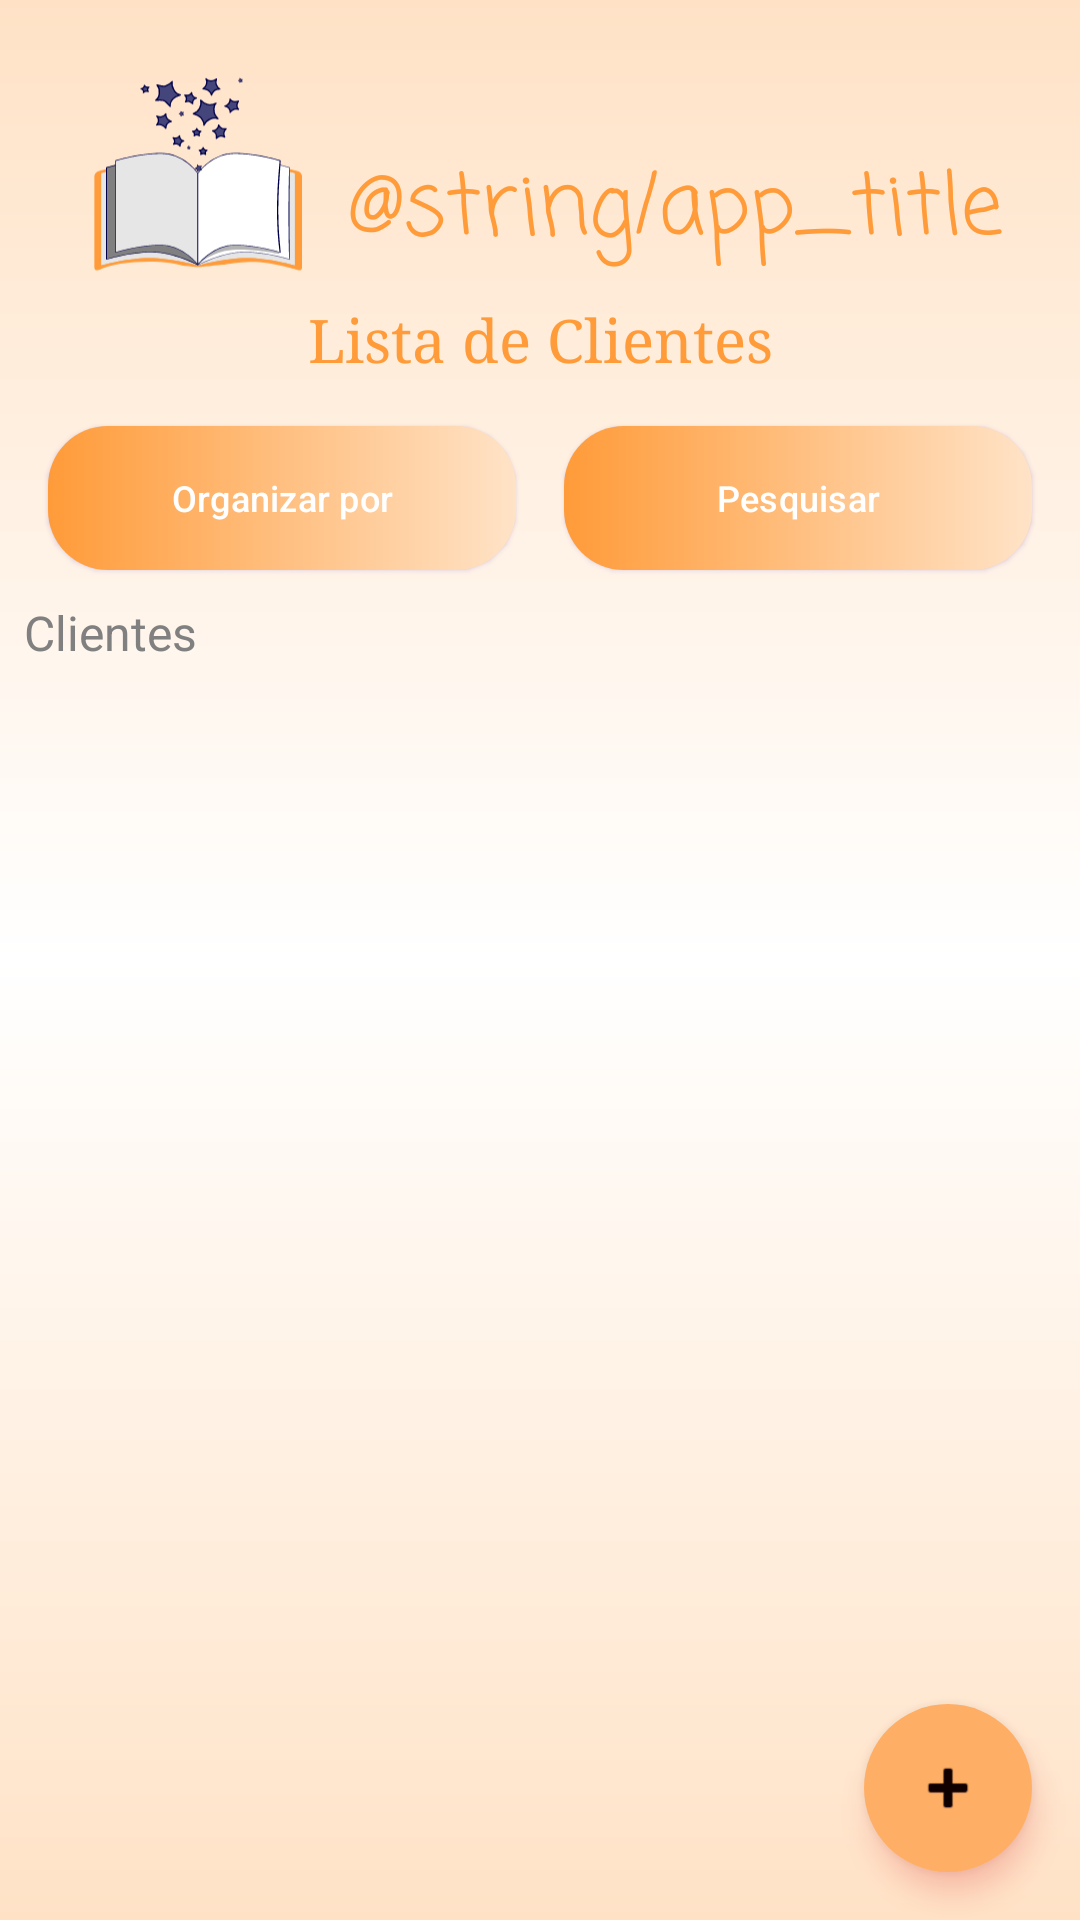

Named icons in this screenshot (1080px x 1920px) and their bounding boxes, (x1, y1, x2, y2):
book: (94, 77, 302, 271)
